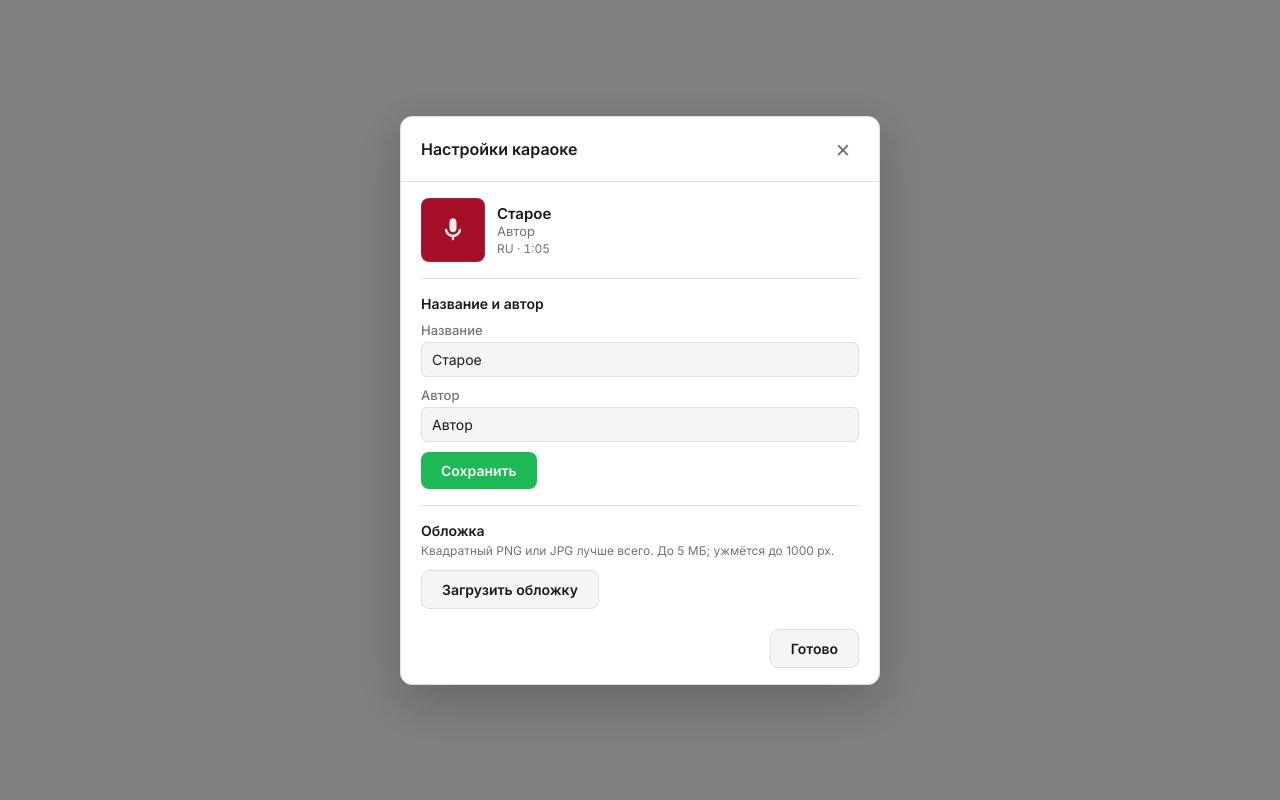
Scenario: EditKaraokeModal › сохраняет мету и показывает Сохранено
This screenshot has width=1280, height=800.
Replace the text in the field named "Название песни" with "Новое" at (640, 359), box x1=421 y1=342 x2=859 y2=376
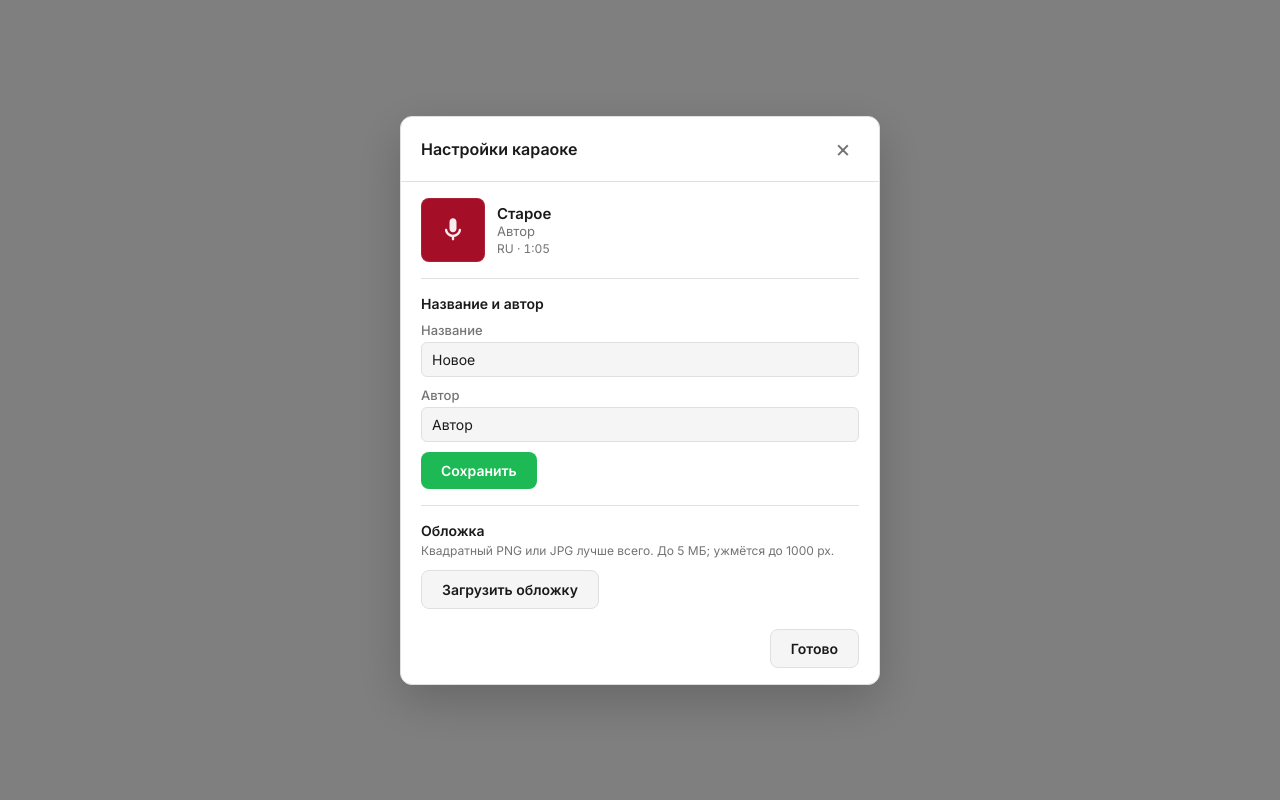
Click the button "Сохранить".
click(479, 470)  # box x1=421 y1=452 x2=537 y2=488
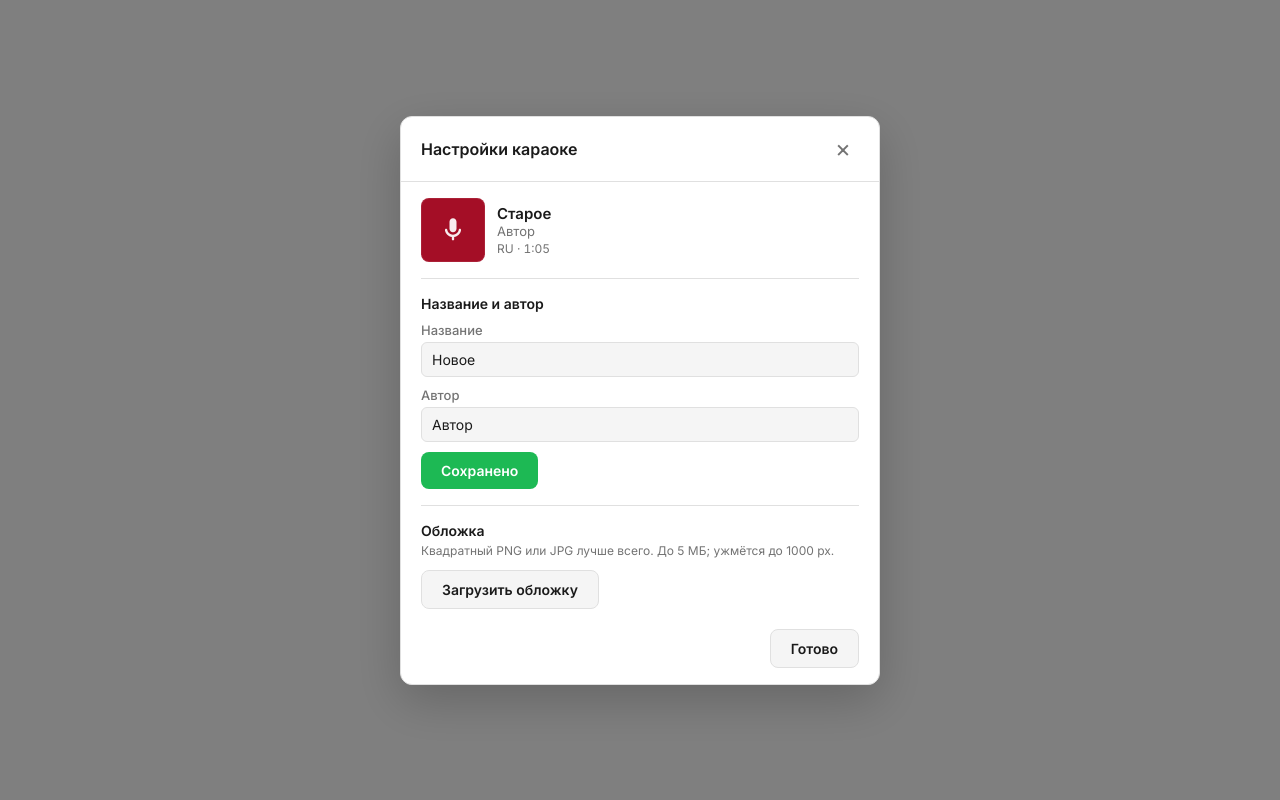
Check: the button "Сохранено" is shown, box x1=421 y1=452 x2=538 y2=488
